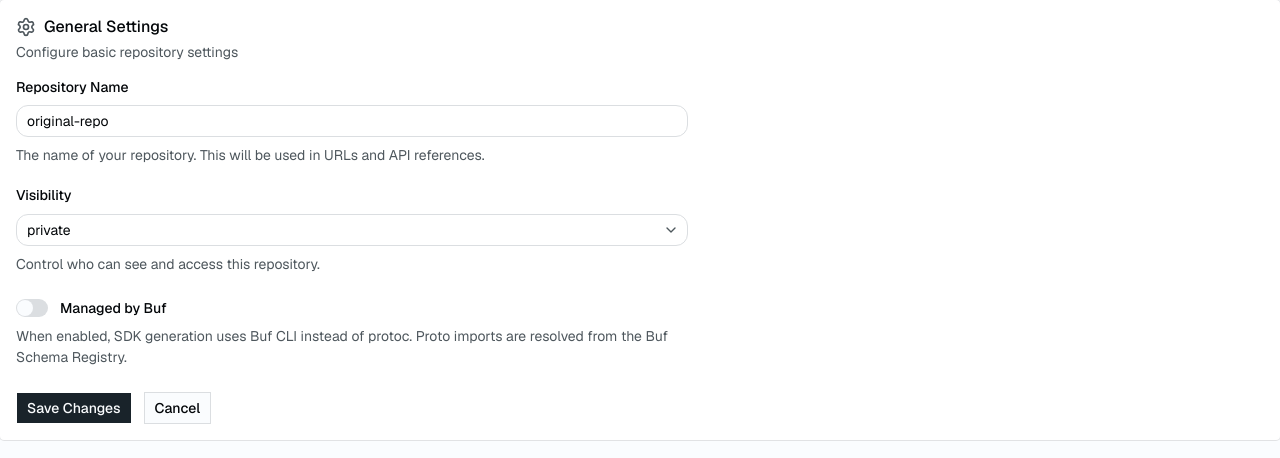
RepositorySettingsForm › Form Reset › resets form to initial values when cancel is clicked
The image size is (1280, 458).
Step 1. Replace the text in the field labelled "Repository Name" with "modified-repo" → x=352, y=121, box [16,105,688,137]
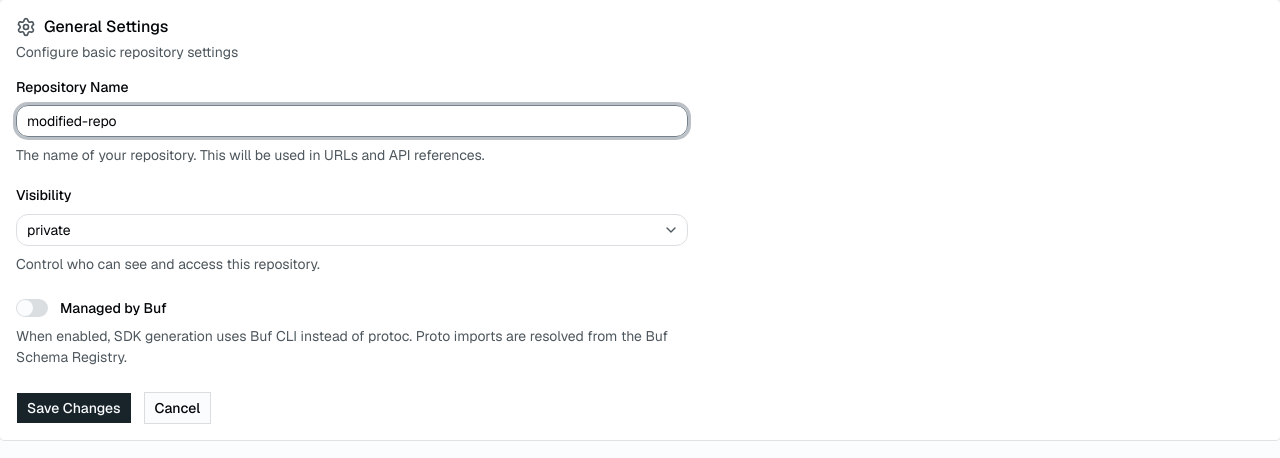
Step 2. Click the button "Cancel" → x=177, y=408, box [144,392,211,424]
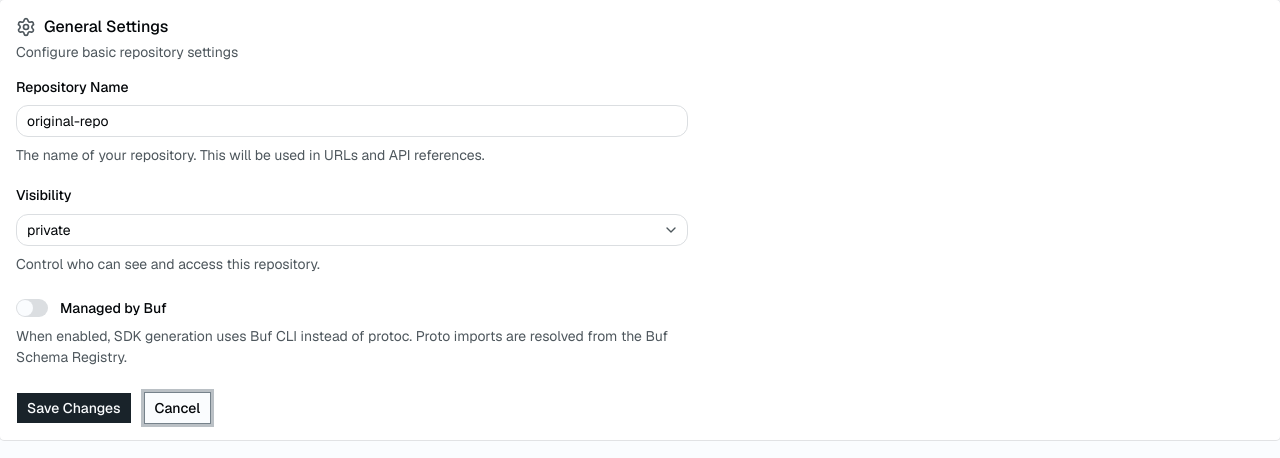
Now the field labelled "Repository Name" holds "original-repo", box [16,105,688,137]
